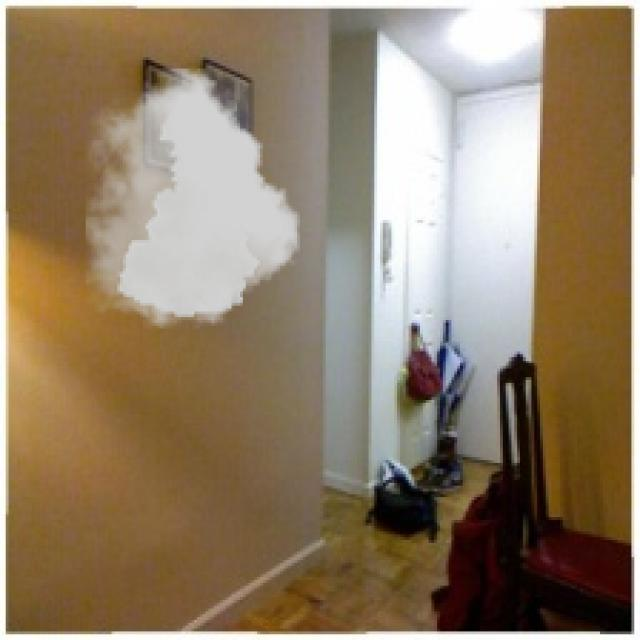Smoke: (86, 69, 300, 328)
